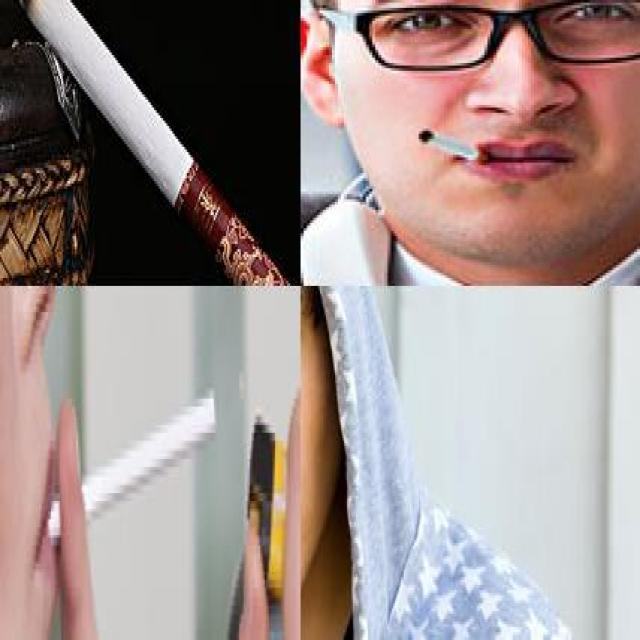smoking: (6, 0, 299, 283), (44, 390, 216, 540), (416, 127, 493, 167)
